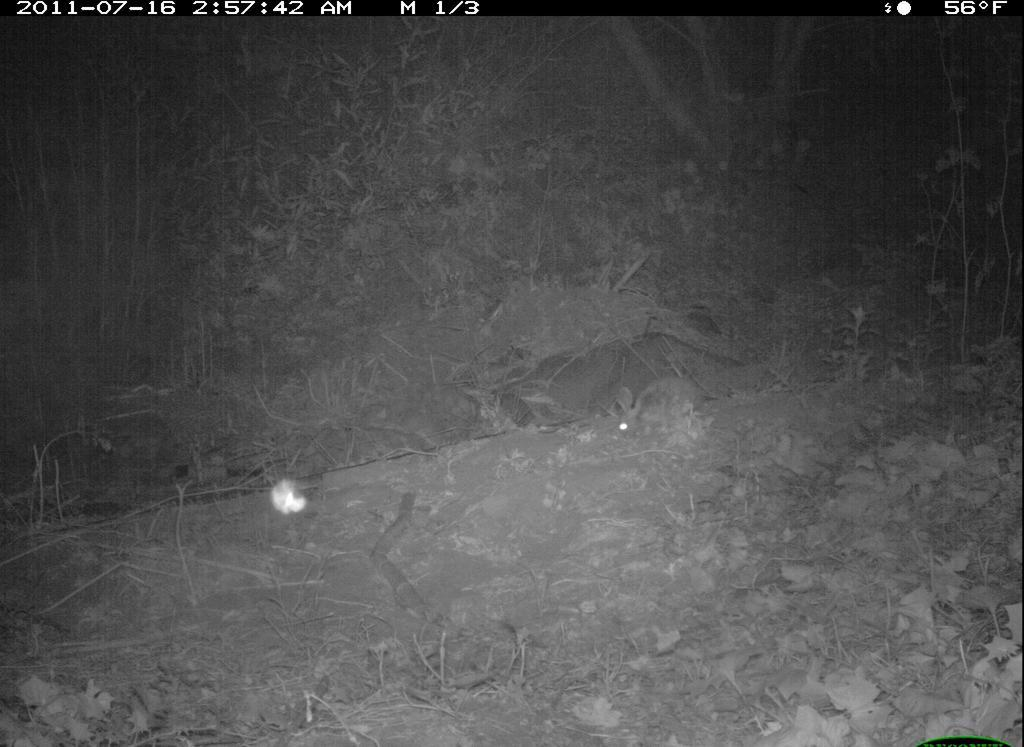rabbit: (611, 371, 711, 447)
